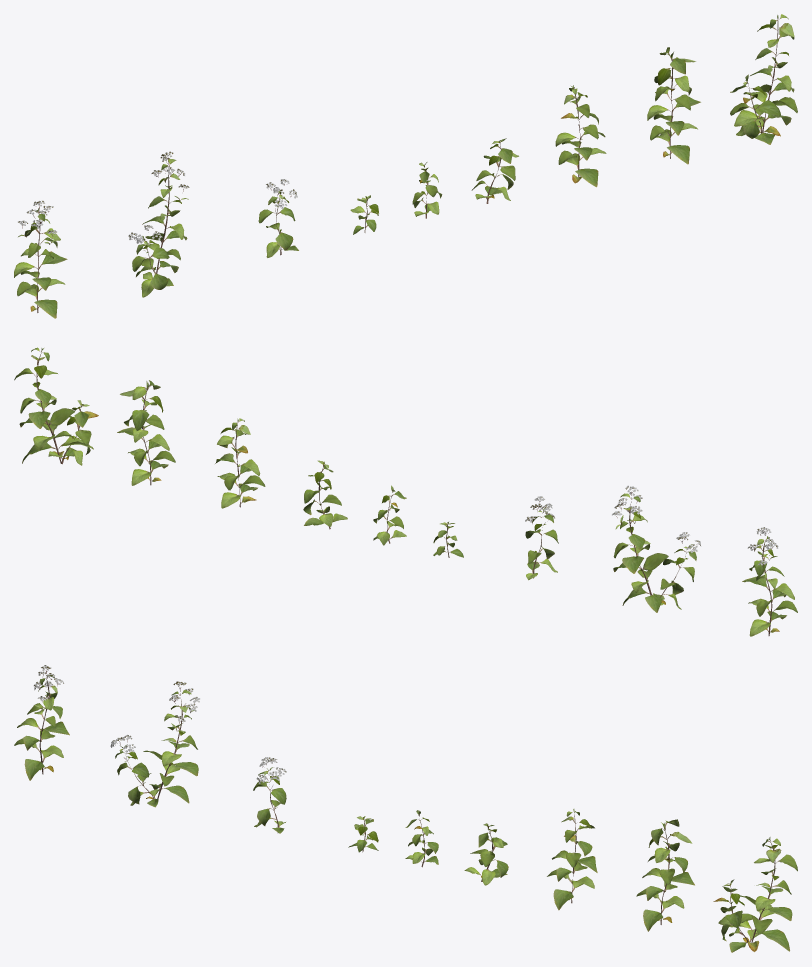
3 renders of one model, top to bottom at view 1: azimuth 30°, elevation 25°; view 2: azimuth 150°, elevation 25°; view 3: azimuth 330°, elevation 25°, orthographic. The views are drawn at different scales.
Parts seen in each view (by area): view 1: shrub_01_a; view 2: shrub_01_a; view 3: shrub_01_a.
Boxes of the visible parts, x1,y1,x2,y2 form: shrub_01_a: (14, 14, 797, 318); shrub_01_a: (14, 347, 797, 636); shrub_01_a: (14, 665, 797, 952).
Bounding box in the file's own units: 2.59 × 0.3956 × 0.2181.
1 material, 1 textured.
